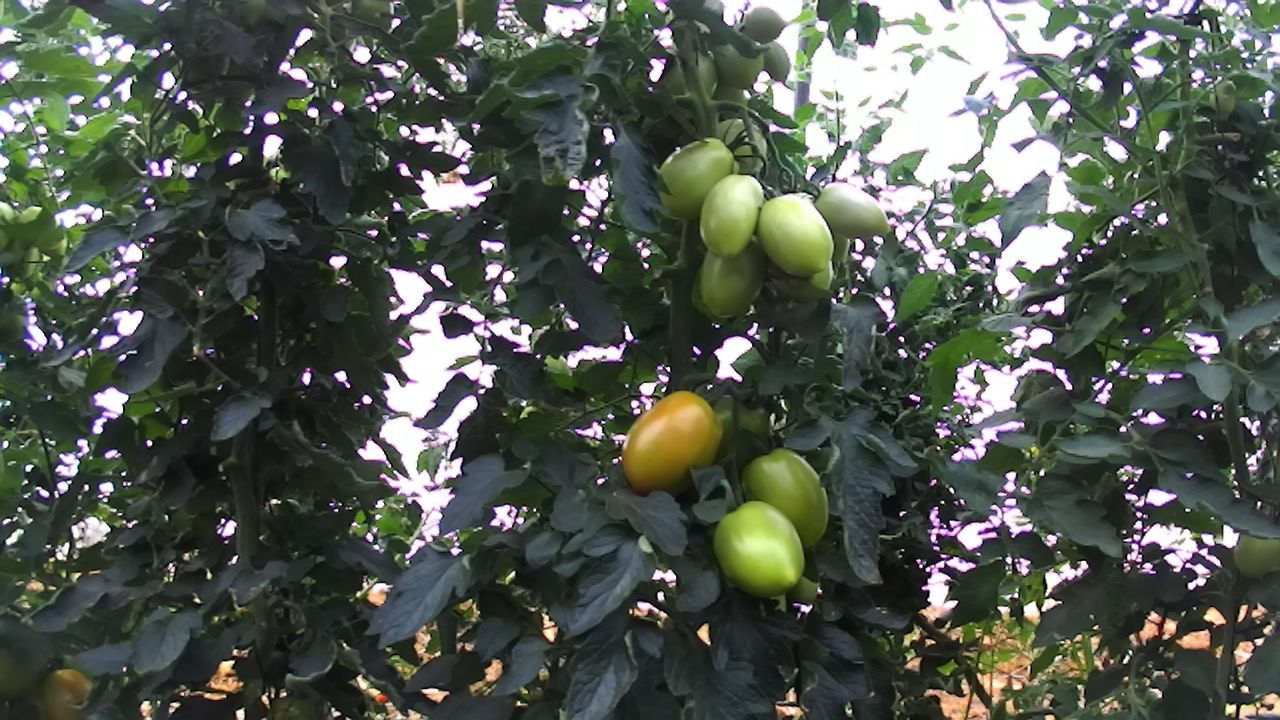tomato: (618, 385, 728, 499), (737, 441, 834, 553), (709, 495, 808, 600), (646, 129, 742, 226), (693, 224, 777, 325), (756, 190, 837, 283), (697, 171, 766, 263), (810, 177, 892, 243), (740, 5, 790, 44)
